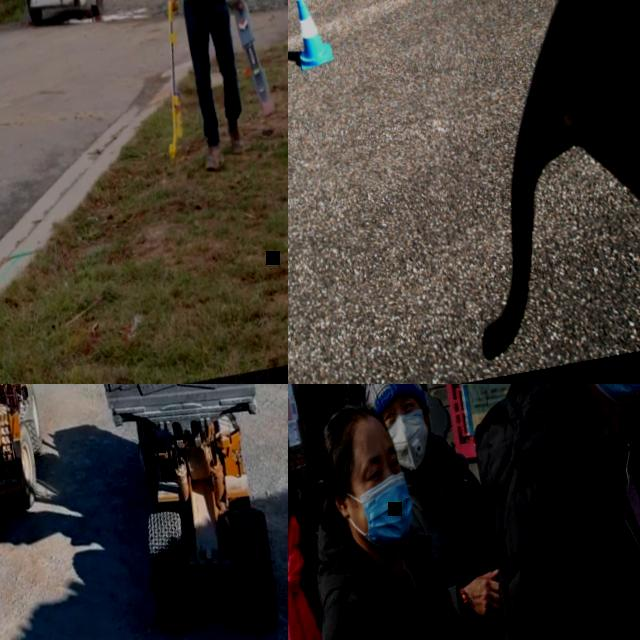machinery: (77, 384, 288, 640), (0, 384, 72, 546)
mask: (355, 472, 422, 556), (386, 408, 437, 474)
no_helmet: (314, 399, 396, 474), (356, 384, 426, 410)
no_vest: (483, 384, 640, 640), (401, 455, 518, 640), (324, 550, 511, 640), (288, 517, 375, 640), (348, 384, 362, 399), (413, 384, 427, 389)
person: (429, 384, 640, 640), (352, 384, 535, 640), (137, 0, 272, 175), (338, 384, 372, 408)
safety_cone: (289, 0, 335, 70)
